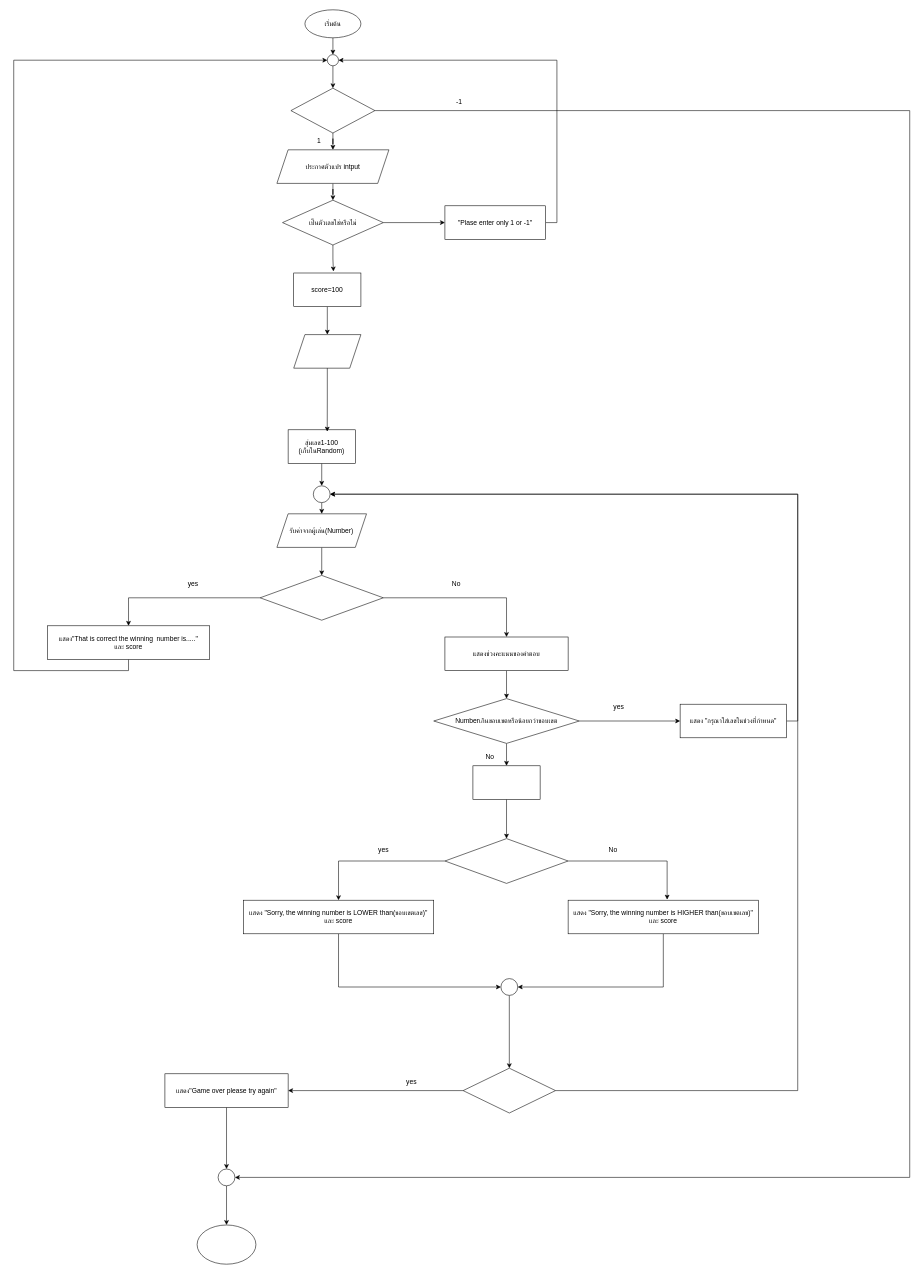
This 924x1274 diagram has some shape labels left out. Each missing label, with the box of its shape:
Number < Random หรือไม่: (444, 838, 568, 883)
Number==Random หรือไม่: (260, 575, 383, 620)
score-10: (472, 765, 540, 799)
scroe=0 ใช่หรือไม่: (463, 1068, 556, 1113)
กด1คือเล่น กด-1คือออกเกม: (290, 88, 375, 133)
สิ้นสุด: (197, 1224, 256, 1264)
แสดง score: (293, 334, 361, 368)
